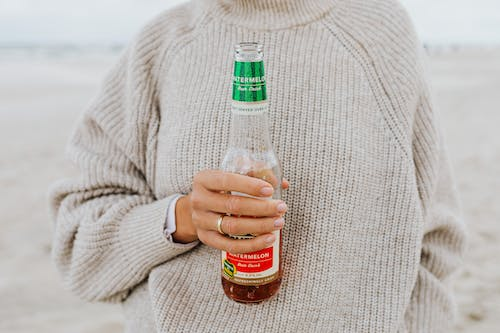alcohol: (218, 41, 282, 305)
